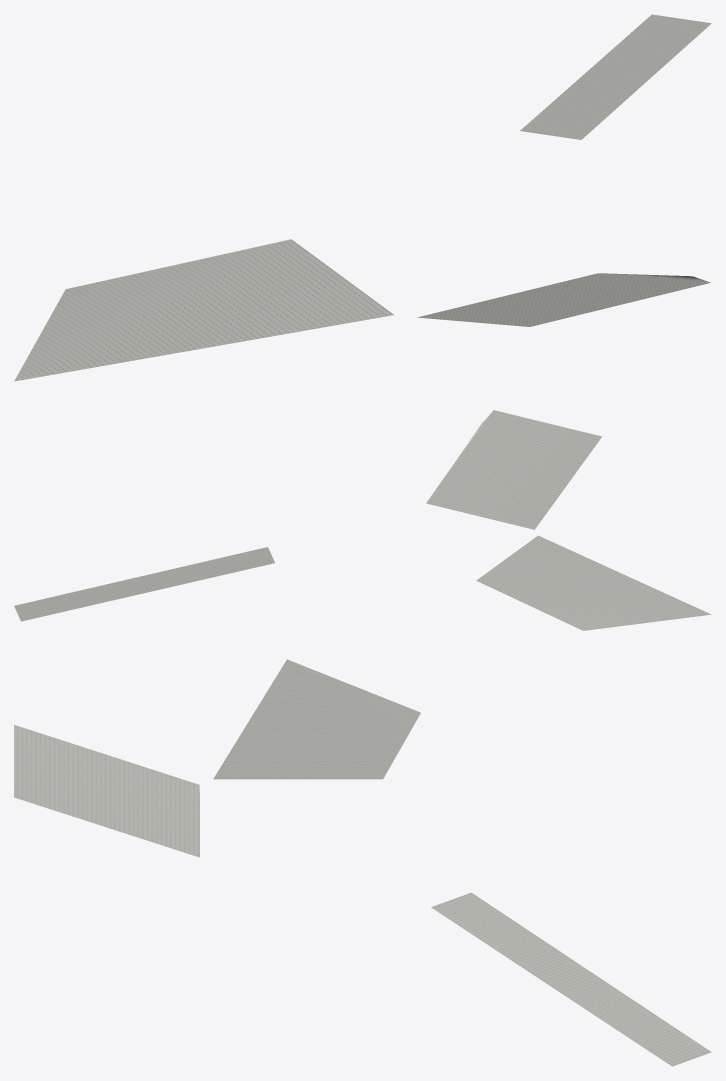
Rendered from kd_connection_town-ground_surface_3_19.glb.
3 renders of one model, top to bottom at view 1: azimuth 30°, elevation 25°; view 2: azimuth 150°, elevation 25°; view 3: azimuth 270°, elevation 25°, orthographic. The views are drawn at different scales.
Parts seen in each view (by area): view 1: kd_connection_town-ground_surface_3_19; view 2: kd_connection_town-ground_surface_3_19; view 3: kd_connection_town-ground_surface_3_19.
Boxes of the visible parts, x1=… form: kd_connection_town-ground_surface_3_19: x1=14, y1=14, x2=711, y2=381; kd_connection_town-ground_surface_3_19: x1=14, y1=410, x2=711, y2=630; kd_connection_town-ground_surface_3_19: x1=14, y1=659, x2=711, y2=1066.
Bounding box in the file's own units: 6.65 × 0.8999 × 5.25.
1 material, 1 textured.
